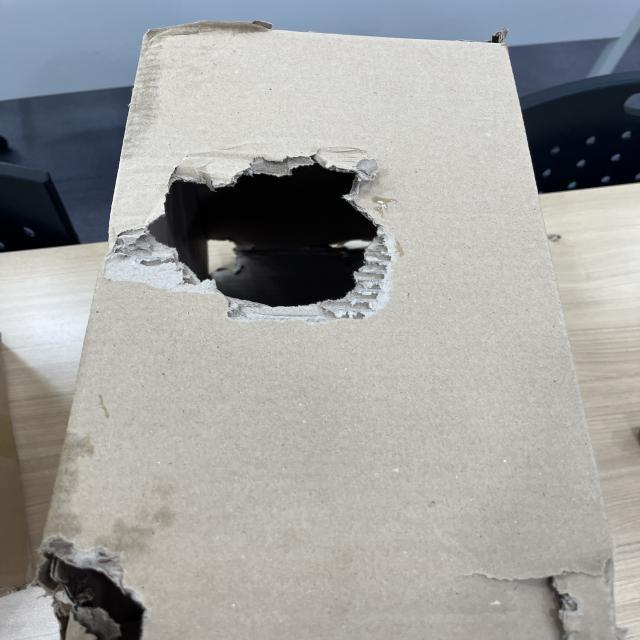hole: (131, 148, 387, 326), (37, 538, 157, 640)
